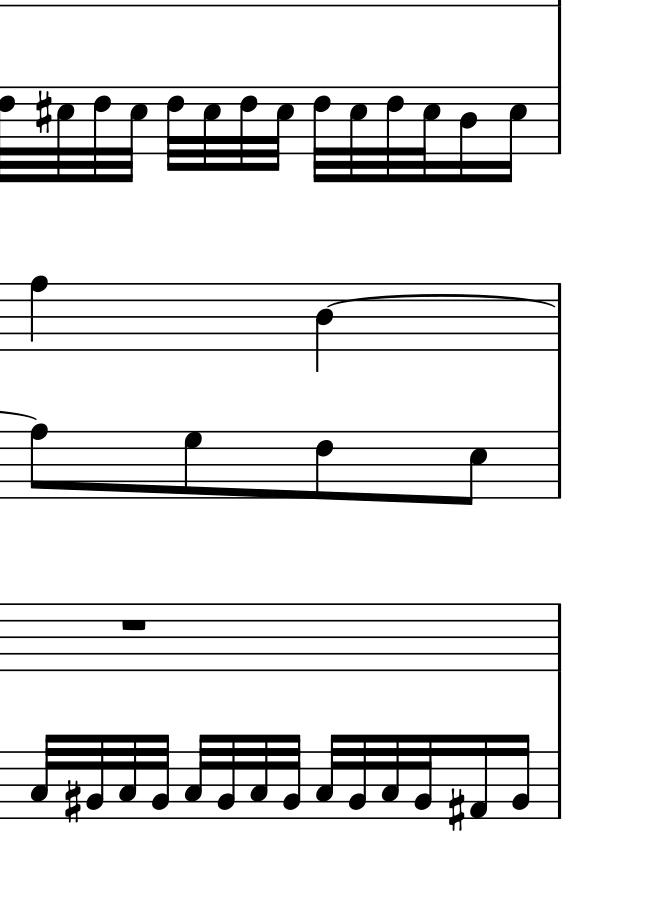16_1: (470, 733, 491, 822)
16_2: (511, 733, 533, 820), (416, 732, 434, 820)
16_4: (457, 84, 480, 185)
16_5: (501, 85, 530, 183), (416, 85, 442, 183)
32_2: (282, 733, 303, 821), (151, 732, 171, 822), (217, 732, 237, 821), (349, 732, 368, 820), (86, 734, 105, 821)
32_3: (315, 732, 340, 820), (31, 733, 55, 822), (185, 733, 208, 821), (248, 733, 270, 821), (382, 732, 401, 823), (119, 732, 138, 820)
32_5: (124, 85, 159, 183), (55, 84, 85, 185), (271, 84, 304, 175), (202, 85, 230, 176), (348, 84, 370, 186)
32_6: (166, 85, 197, 177), (238, 84, 269, 175), (93, 85, 120, 188), (311, 84, 332, 184), (384, 85, 405, 184)
4_4: (314, 281, 336, 374)
4_8: (29, 275, 50, 351)
8_5: (460, 430, 487, 507)
8_6: (314, 430, 333, 502)
8_7: (182, 430, 202, 500)
8_8: (29, 423, 50, 500)
Rests1: (118, 616, 150, 633)
Sharp: (63, 781, 85, 823), (35, 90, 53, 132), (449, 788, 465, 834)
Single_barline: (545, 86, 569, 154), (547, 432, 569, 498), (547, 603, 568, 671), (547, 751, 568, 818), (549, 284, 568, 351)
Slur: (327, 294, 555, 309)
